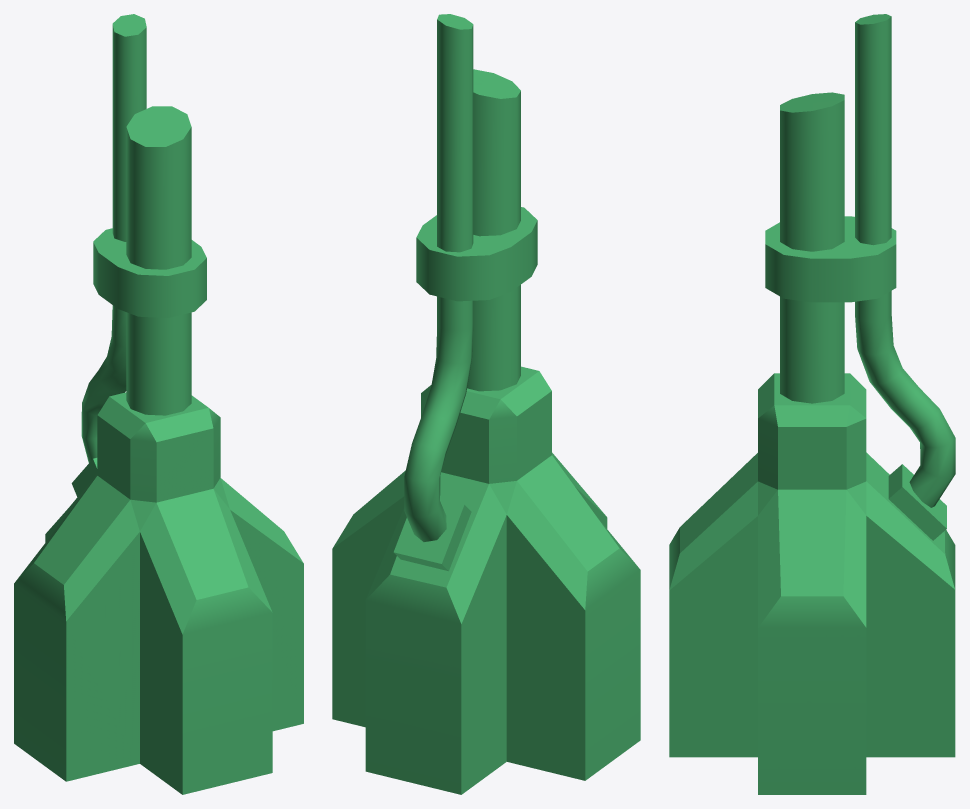
Rendered from mesh_StreetLamp_BrokenLower_v2.fbx.
3 renders of one model, left to right at view 1: azimuth 30°, elevation 25°; view 2: azimuth 150°, elevation 25°; view 3: azimuth 270°, elevation 25°, orthographic. The views are drawn at different scales.
Visible parts, largest first — view 1: mesh_StreetLamp_BrokenLower_v2_0; view 2: mesh_StreetLamp_BrokenLower_v2_0; view 3: mesh_StreetLamp_BrokenLower_v2_0.
Part boxes in pixels (x1,y1,x2,y2): mesh_StreetLamp_BrokenLower_v2_0: [14, 14, 303, 794]; mesh_StreetLamp_BrokenLower_v2_0: [332, 14, 640, 794]; mesh_StreetLamp_BrokenLower_v2_0: [669, 14, 955, 794].
Bounding box in the file's own units: 44.85 × 125 × 44.93.
